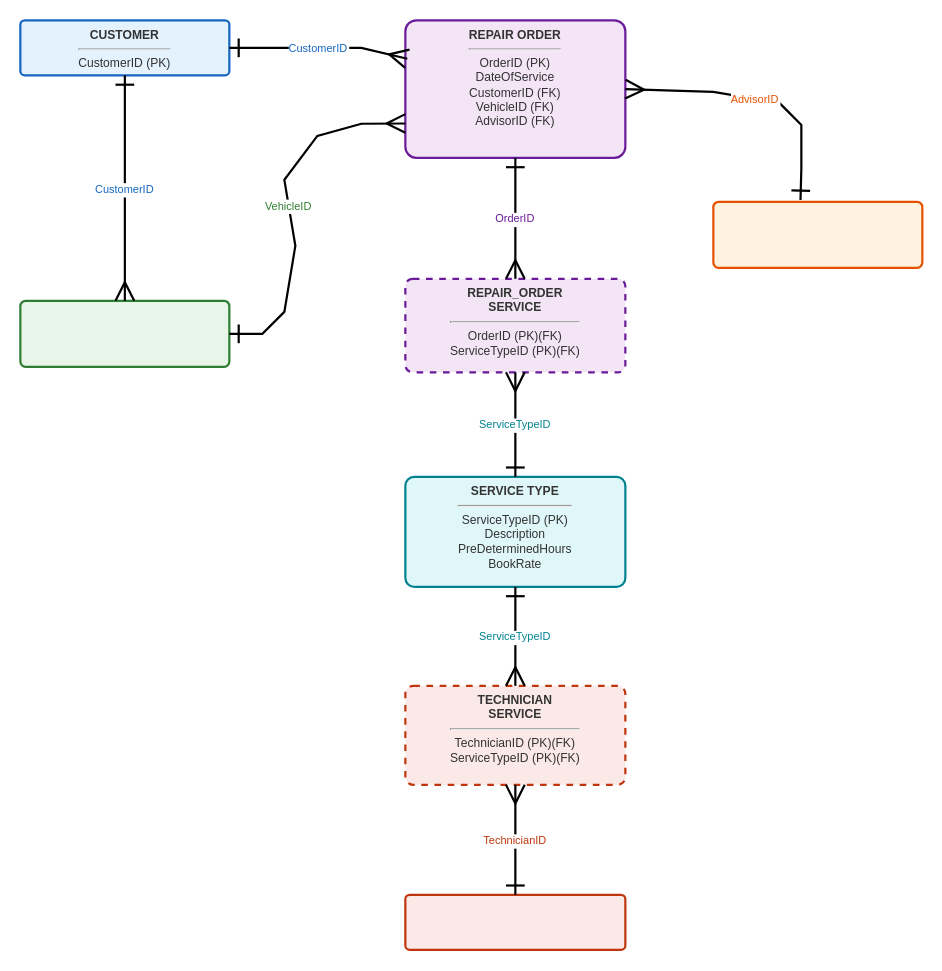
This 942x971 diagram has some shape labels left out. The centre of each missing label's shape, as x and y in pixels:
SERVICE ADVISOR AdvisorID (PK) Name: the point at 817,234
TECHNICIAN TechnicianID (PK): the point at 515,921
VEHICLE VehicleID (PK) CustomerID (FK): the point at 124,333
